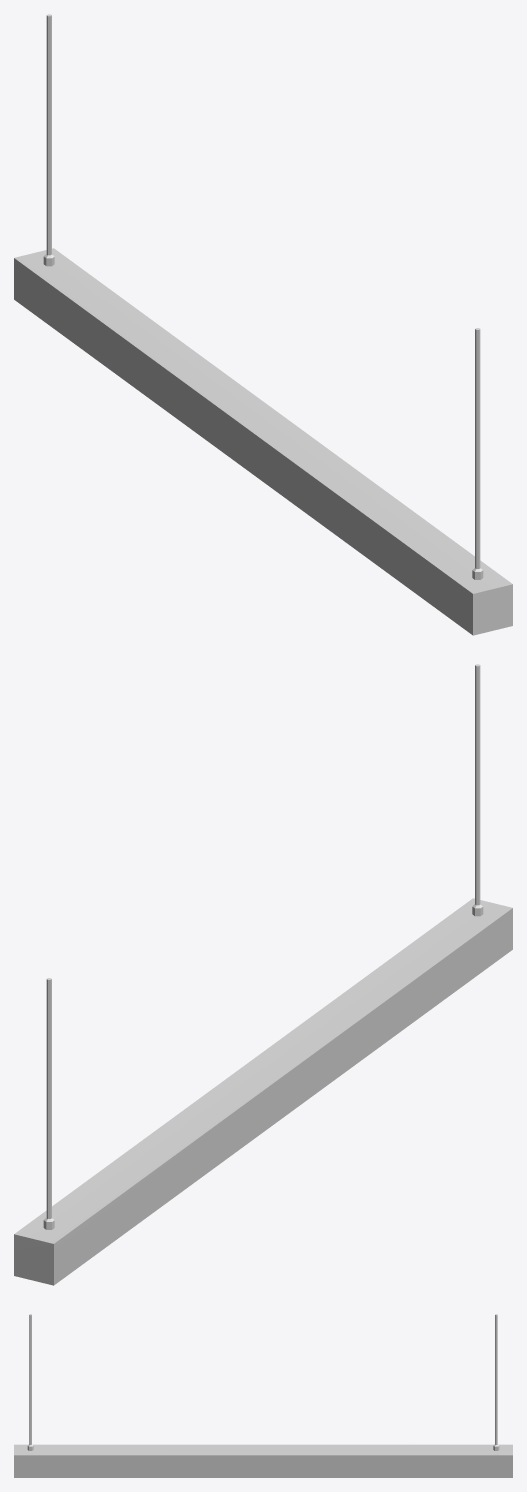
The model's file is Light.glb.
3 renders of one model, top to bottom at view 1: azimuth 30°, elevation 25°; view 2: azimuth 150°, elevation 25°; view 3: azimuth 270°, elevation 25°, orthographic. The views are drawn at different scales.
Visible parts, largest first — view 1: Light; view 2: Light; view 3: Light.
Part boxes in pixels (x1,y1,x2,y2): Light: (14,14,512,635); Light: (14,664,512,1285); Light: (14,1314,512,1477).
Bounding box in the file's own units: 0.2004 × 1.4 × 4.
Materials: 1 (1 with a texture image).
